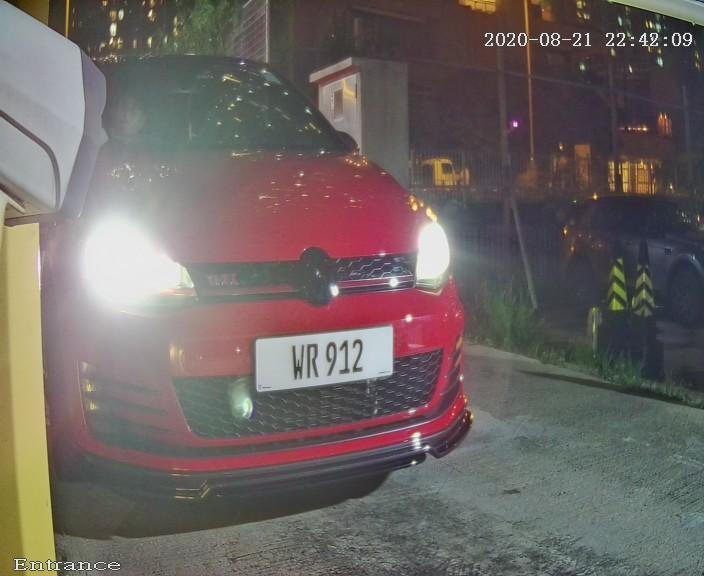Car: (4, 6, 516, 520)
License Plate: (220, 298, 430, 408)
